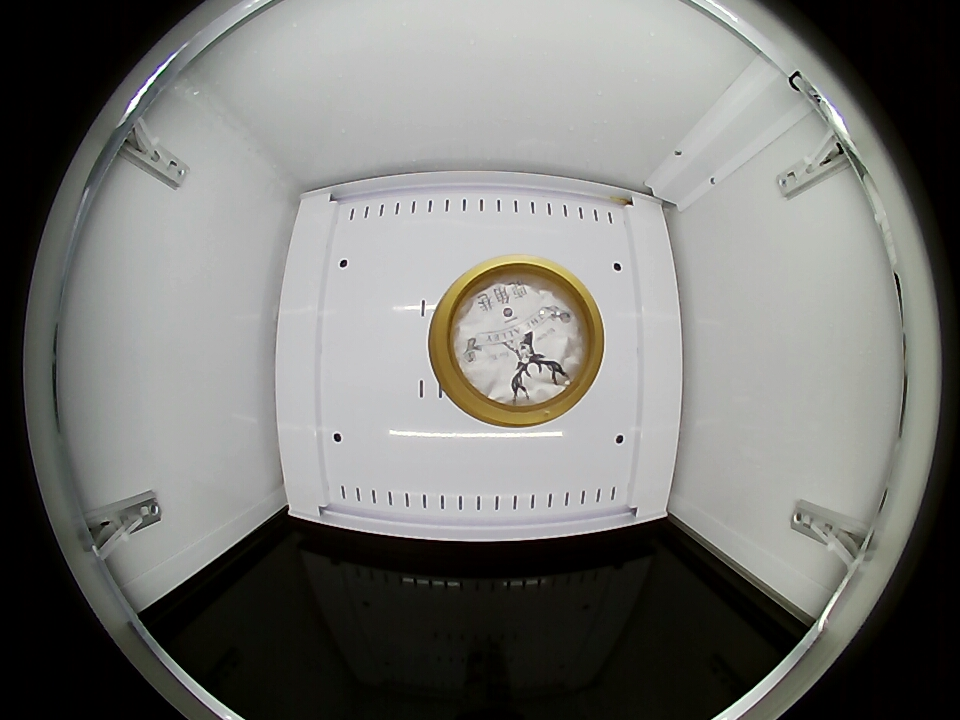lujiaoxiang: (428, 256, 605, 428)
